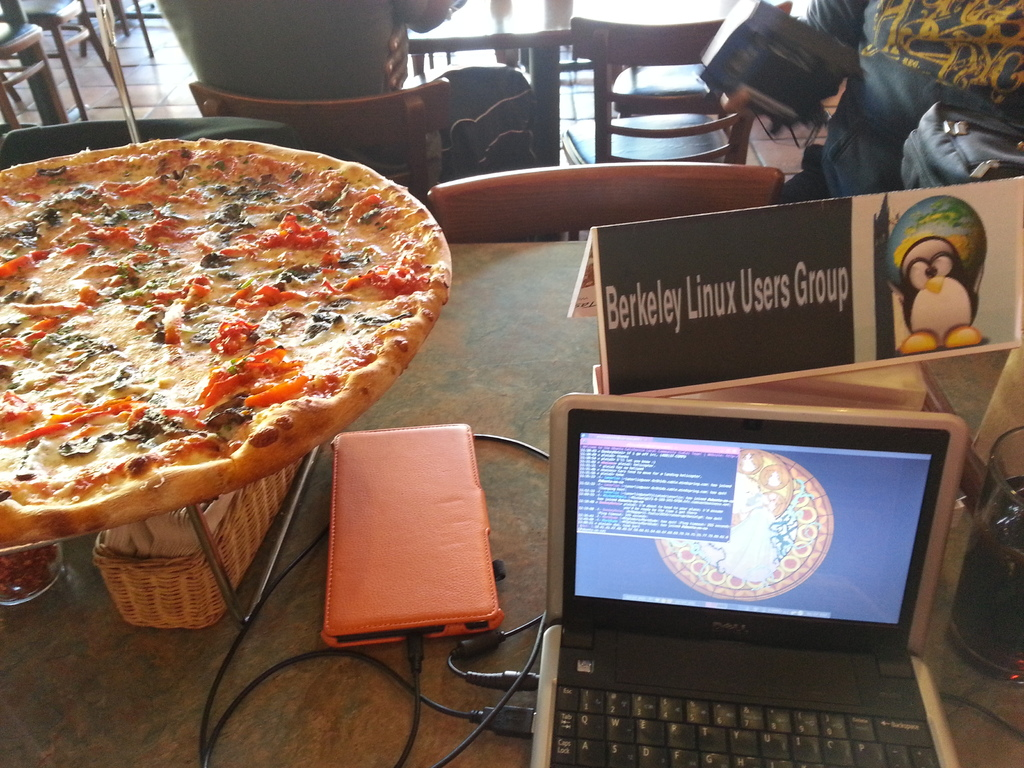Pizza: (0, 135, 451, 545)
